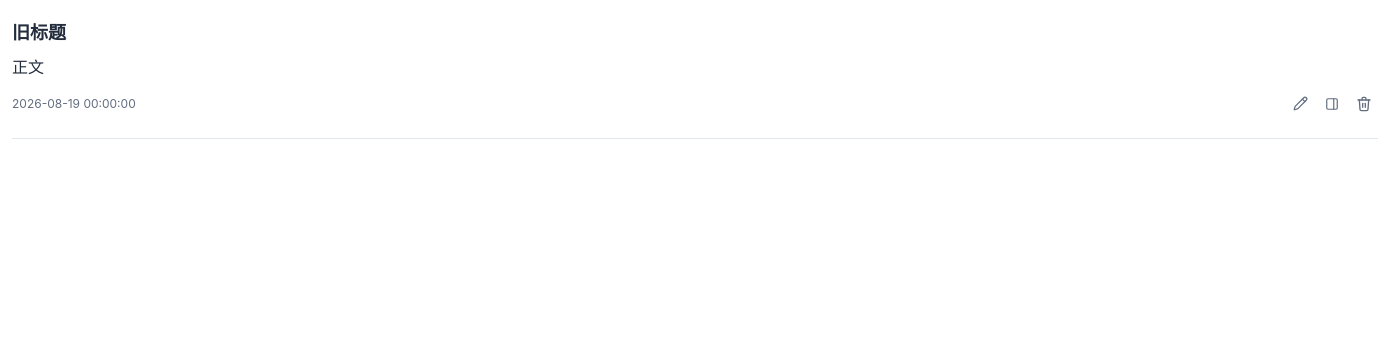
Scenario: ModernNoteCard title editing › discards a title change only through explicit cancel
The width and height of the screenshot is (1390, 339).
Click the button "旧标题": (39, 32) x1=12 y1=20 x2=1366 y2=45
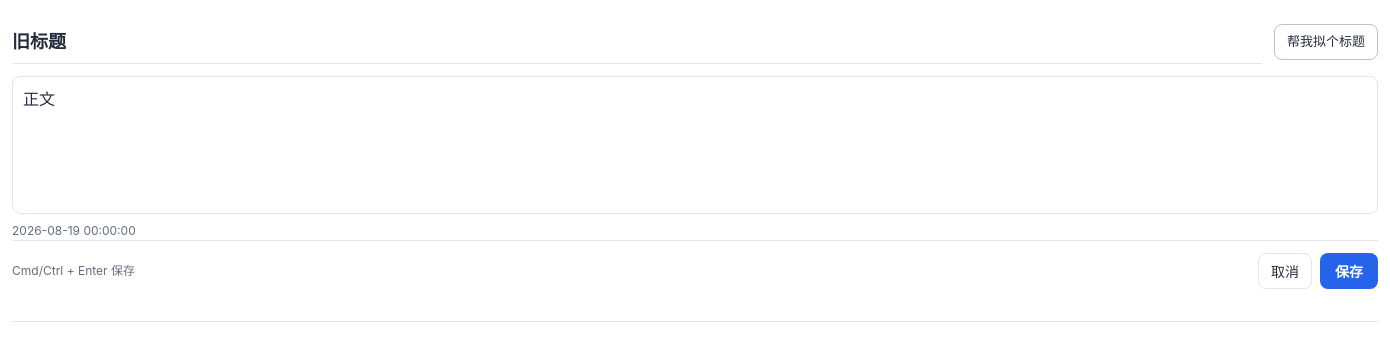
Replace the text in the field named "笔记标题" with "不会保存": (637, 42) x1=12 y1=20 x2=1262 y2=64
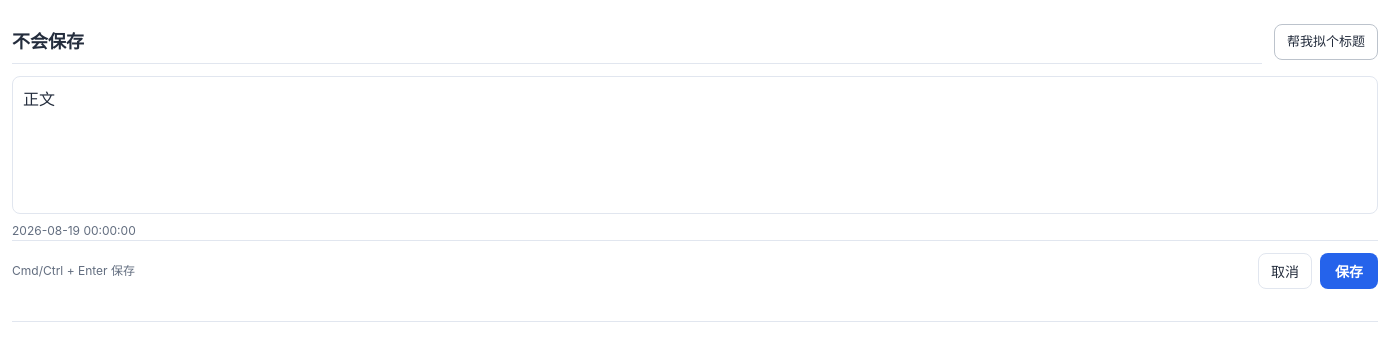
Click the button "取消": (1285, 271) x1=1258 y1=253 x2=1312 y2=289
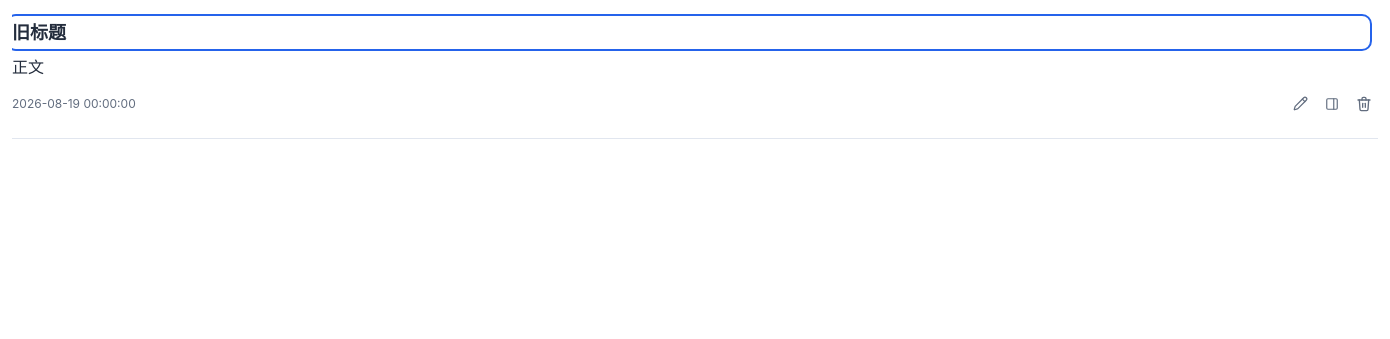
Expected: the field labelled "笔记标题" is gone
Expected: the button "旧标题" is shown, x1=12 y1=20 x2=1366 y2=45
